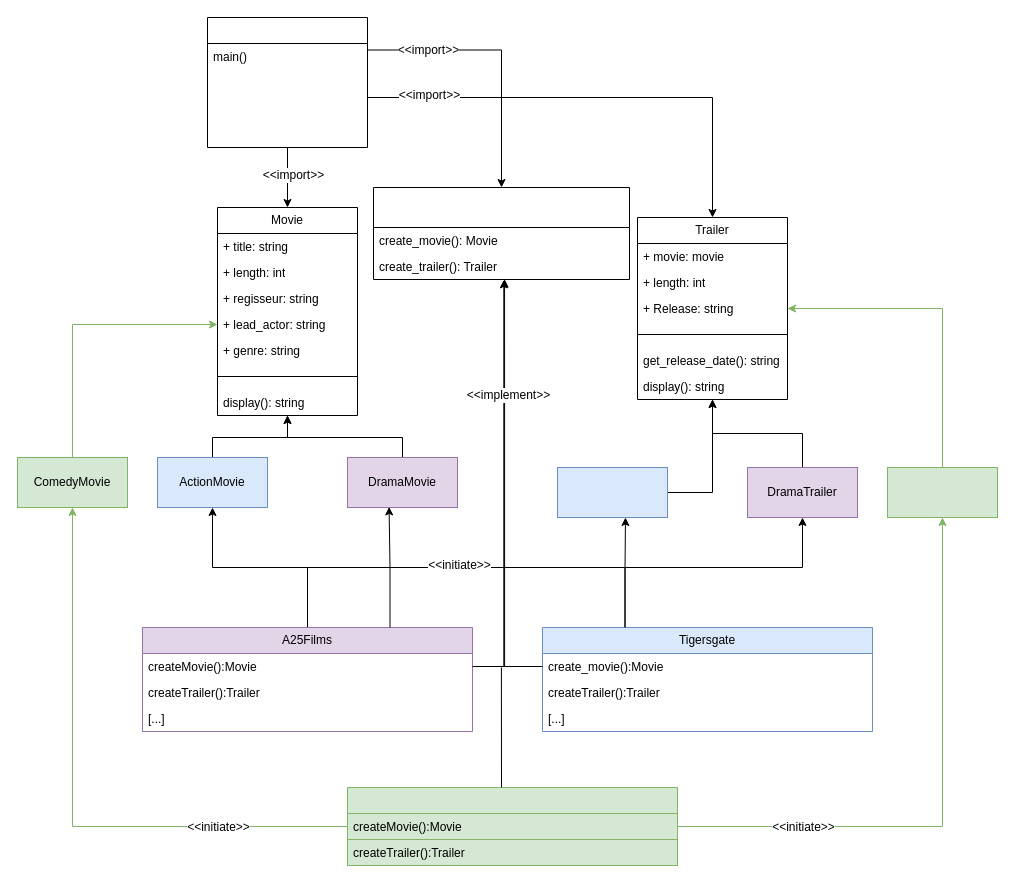
This 1015x886 diagram has some shape labels left out. Here are the shapes that lost their labels. From the top down, the box of each, then its label:
(206, 16, 368, 148): Studio
(372, 186, 630, 280): Interface AbstractMediaFactory
(556, 466, 668, 518): ActionTrailer
(886, 466, 998, 518): ComedyTrailer
(346, 786, 678, 866): ConcreteComedyFactory
